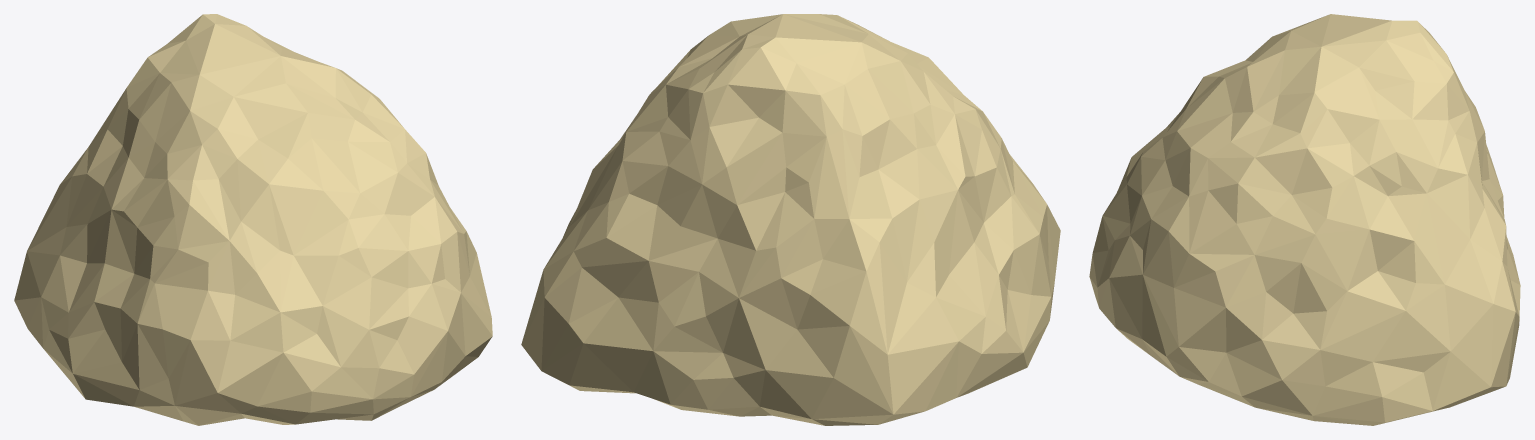
File: Asteroid (8).fbx
3 views of the same model, side by side, from view 1: azimuth 30°, elevation 25°; view 2: azimuth 150°, elevation 25°; view 3: azimuth 270°, elevation 25° (orthographic). The views are drawn at different scales.
Visible parts, largest first — view 1: Asteroid189; view 2: Asteroid189; view 3: Asteroid189.
Boxes of the visible parts, x1,y1,x2,y2 form: Asteroid189: (14,14,492,425); Asteroid189: (521,14,1060,425); Asteroid189: (1089,14,1520,425).
Bounding box in the file's own units: 431 × 345 × 420.
